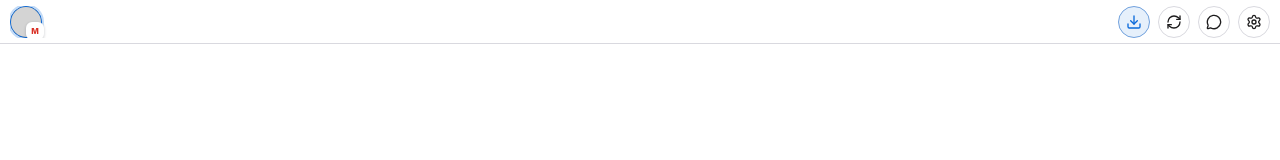
Test: App › shows a manual update check button when no update is available
Click the button named "Check for updates" at (1134, 22), box [1118,6,1150,38]
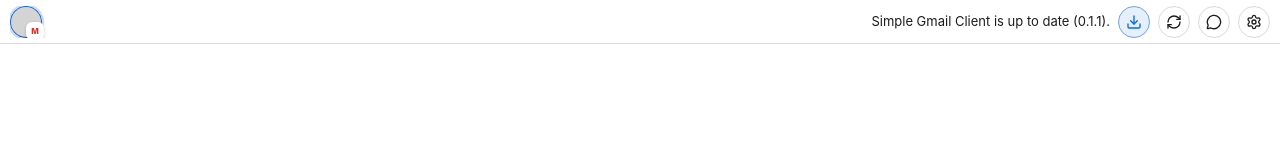
Result: the message reads "Simple Gmail Client is up to date (0.1.1)." at [871,13,1110,29]
